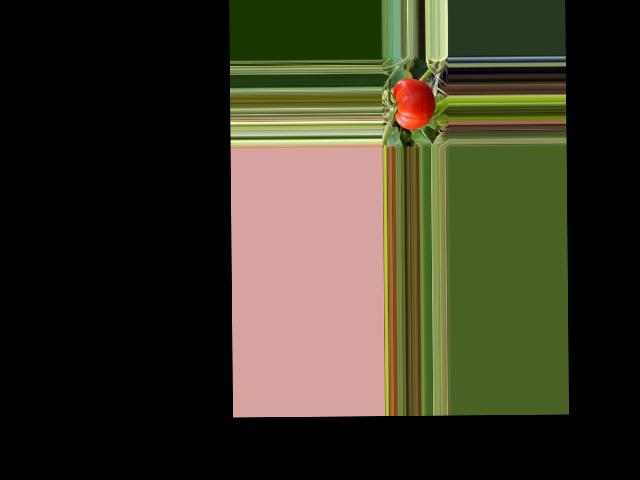tomato: (393, 77, 435, 129)
